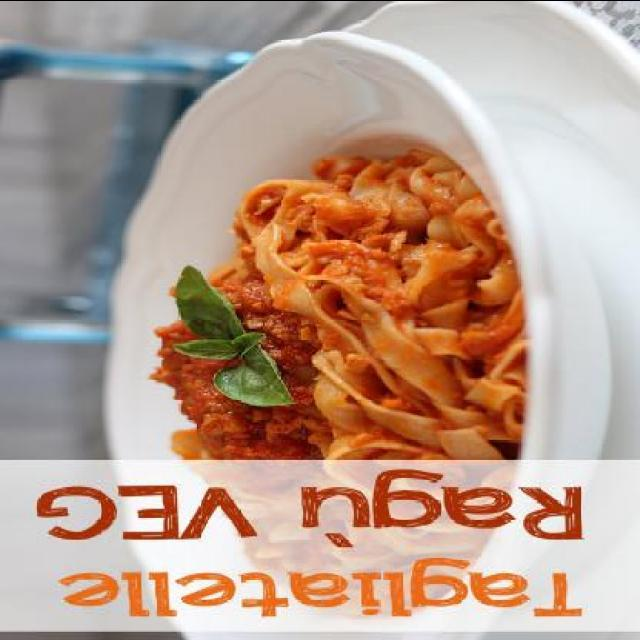Pasta al ragu: (130, 110, 524, 464)
